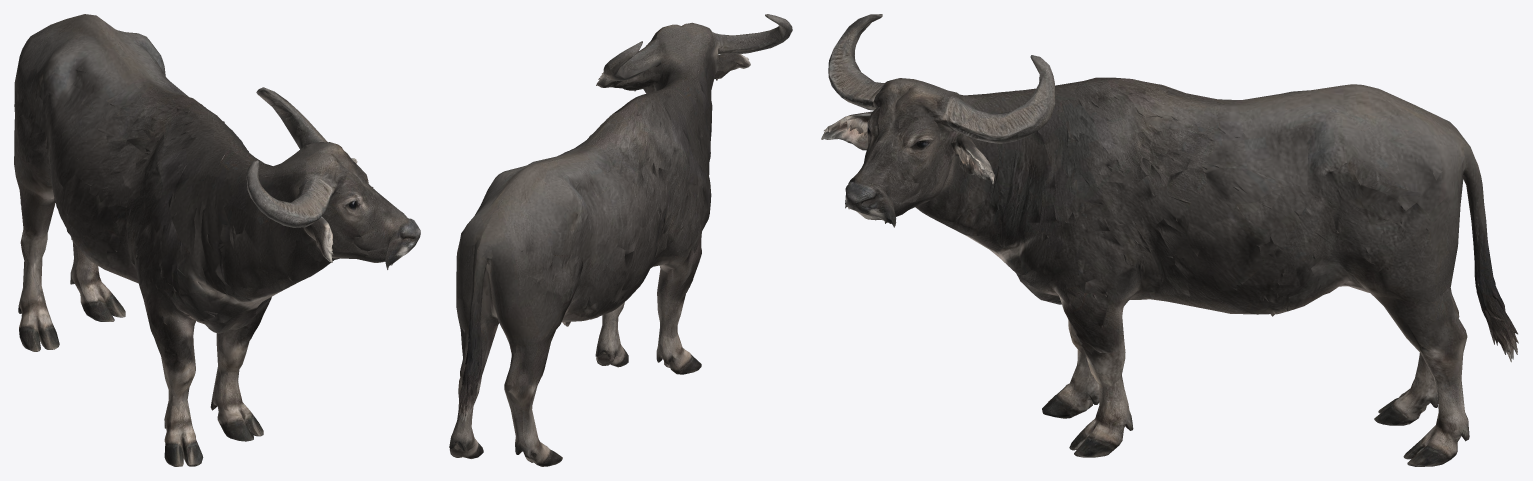
Rendered from e4buffalo.glb.
The picture shows the model from 3 angles, left to right: view 1: azimuth 30°, elevation 25°; view 2: azimuth 150°, elevation 25°; view 3: azimuth 270°, elevation 25°; orthographic projection. The views are drawn at different scales.
Parts seen in each view (by area): view 1: output_unwrapped; view 2: output_unwrapped; view 3: output_unwrapped.
Boxes of the visible parts, box(x1,y1,x2,y2) form: output_unwrapped: box(14, 14, 420, 466); output_unwrapped: box(449, 14, 792, 466); output_unwrapped: box(821, 14, 1518, 466).
Bounding box in the file's own units: 0.8211 × 1.67 × 2.7.
1 material, 1 textured.
